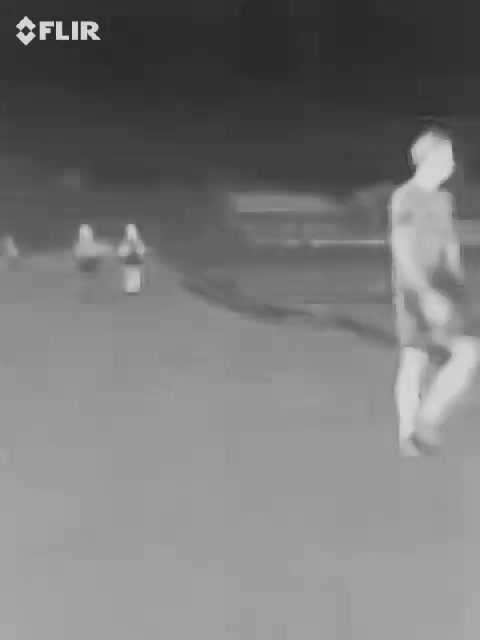head: (406, 126, 464, 191)
